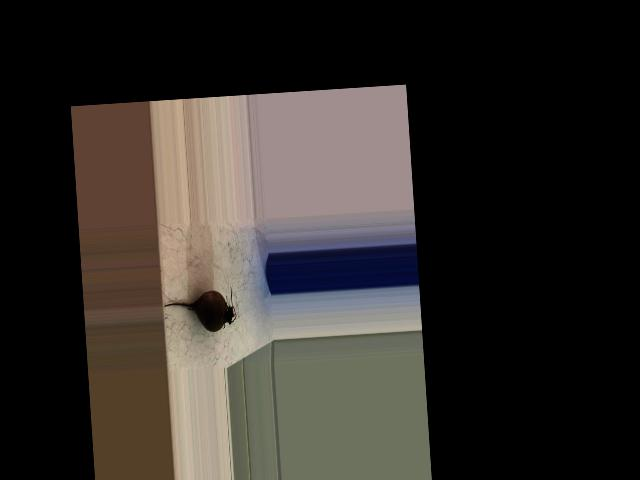beet: (162, 285, 237, 334)
